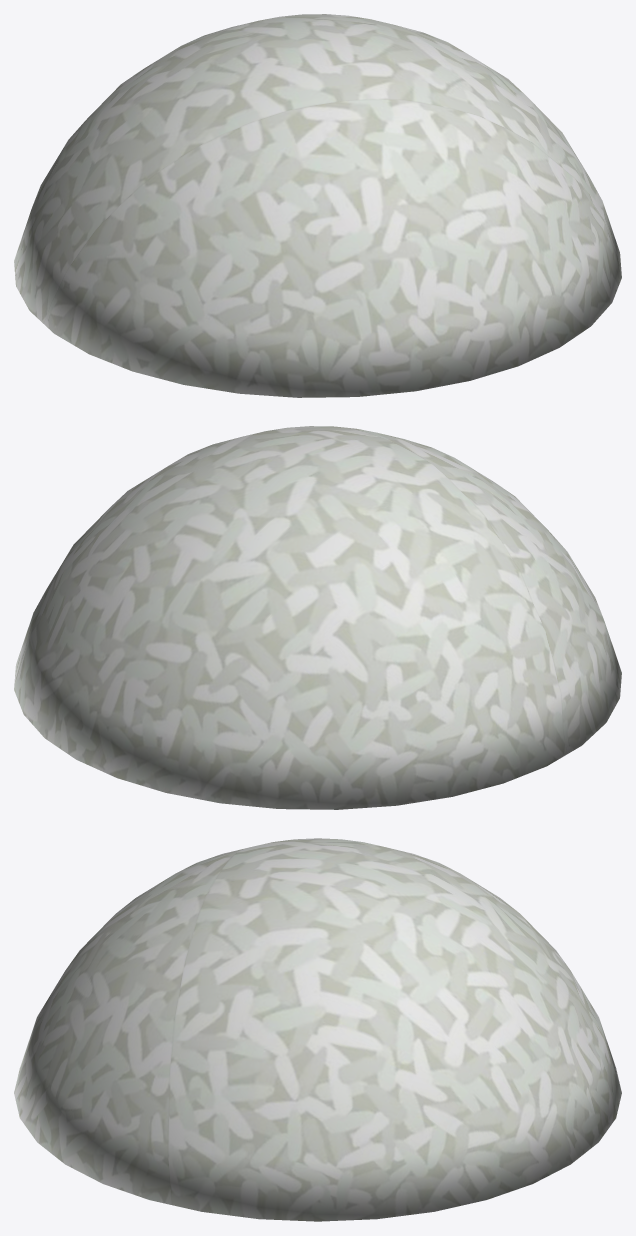
Rendered from cookedrice.fbx.
3 renders of one model, top to bottom at view 1: azimuth 30°, elevation 25°; view 2: azimuth 150°, elevation 25°; view 3: azimuth 270°, elevation 25°, orthographic.
Visible parts, largest first — view 1: cookedrice; view 2: cookedrice; view 3: cookedrice.
Boxes of the visible parts, x1=… form: cookedrice: x1=14, y1=14, x2=621, y2=397; cookedrice: x1=14, y1=426, x2=621, y2=809; cookedrice: x1=14, y1=838, x2=621, y2=1221.
Size of the model in its own units: 196 by 80.49 by 196.
Materials: 1 (1 with a texture image).
